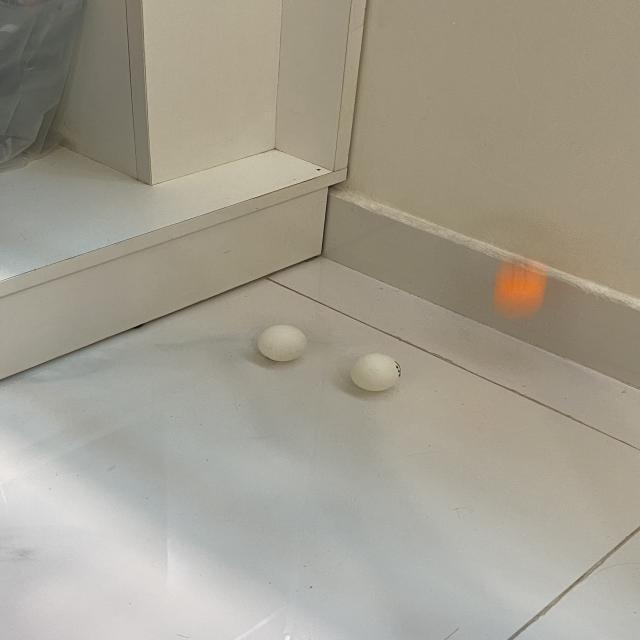ping-pong-ball: (498, 266, 546, 316), (350, 353, 402, 392), (260, 324, 307, 362)
